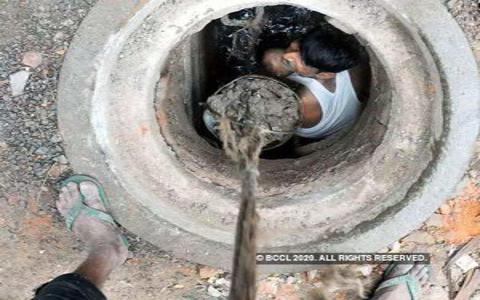open manhole: (152, 1, 393, 196)
